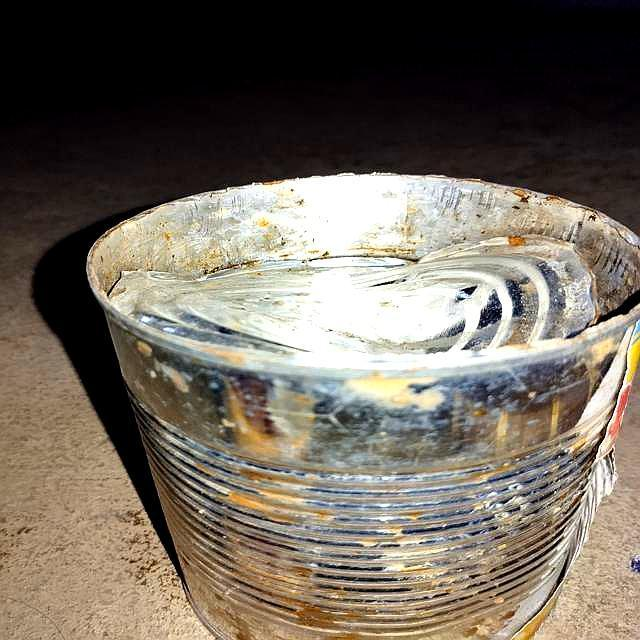Non-biodegradable: (85, 170, 639, 639)
